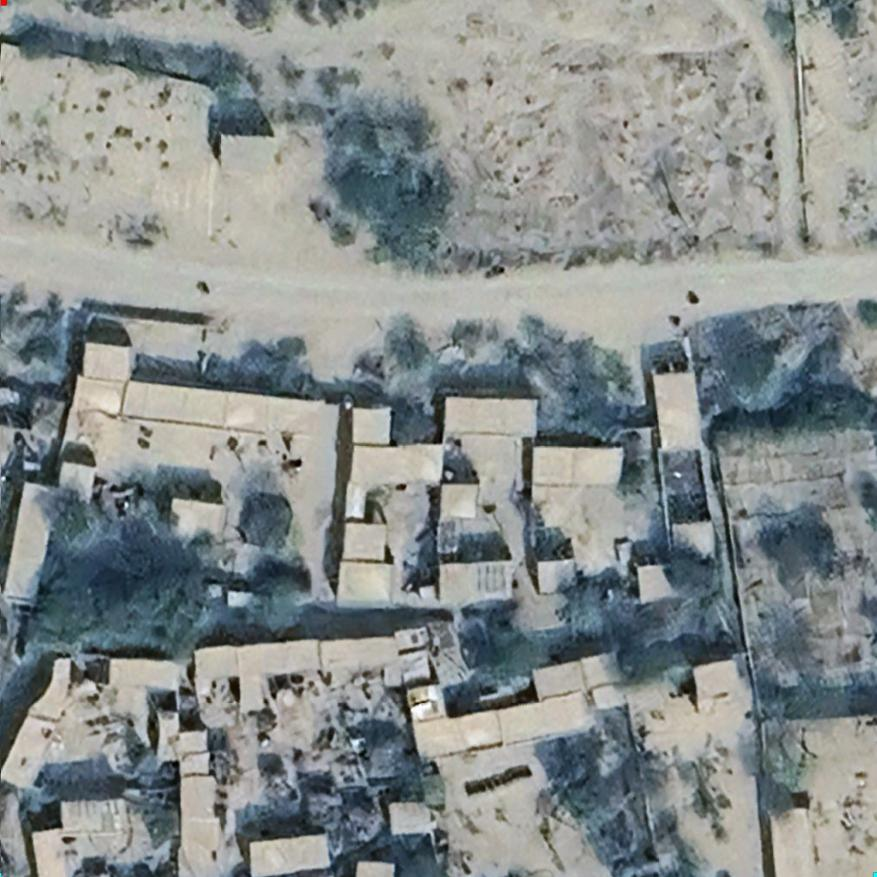Solarpanel: (475, 564, 504, 593)
